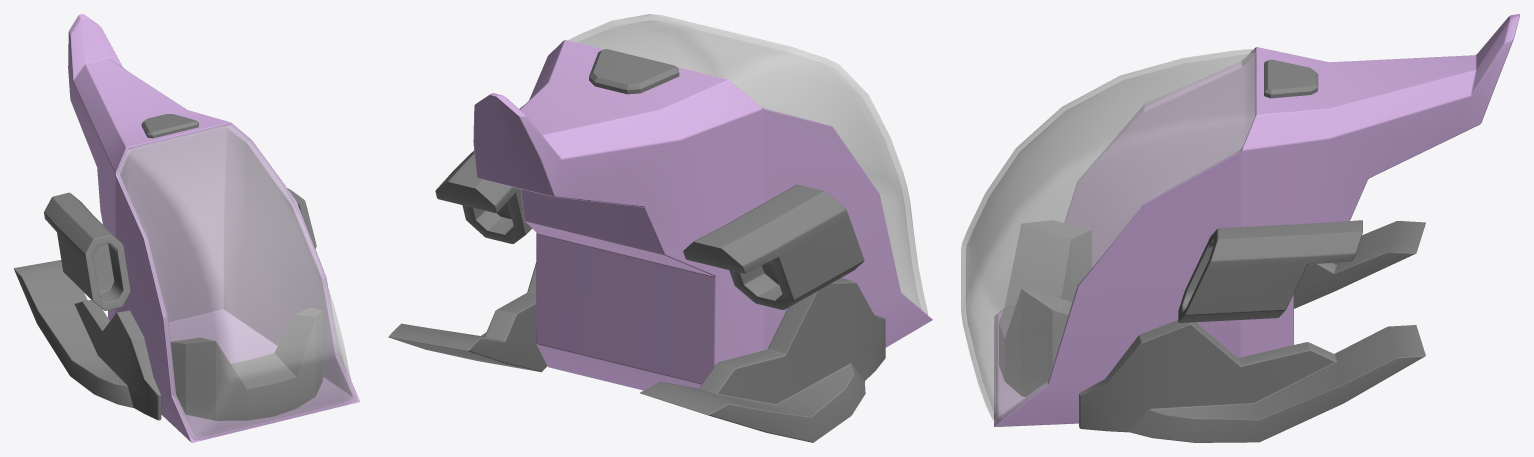
Rendered from 02-Submarine.fbx.
The picture shows the model from 3 angles, left to right: view 1: azimuth 30°, elevation 25°; view 2: azimuth 150°, elevation 25°; view 3: azimuth 270°, elevation 25°; orthographic projection. The views are drawn at different scales.
Visible parts, largest first — view 1: Plane.008, Plane.011; view 2: Plane.008, Plane.011; view 3: Plane.008, Plane.011.
Boxes of the visible parts, x1,y1,x2,y2 form: Plane.008: [14, 14, 359, 442]; Plane.011: [117, 124, 356, 440]; Plane.008: [388, 40, 932, 442]; Plane.011: [568, 14, 927, 314]; Plane.008: [994, 14, 1519, 442]; Plane.011: [961, 48, 1255, 422].
Bounding box in the file's own units: 225 × 255 × 360.
